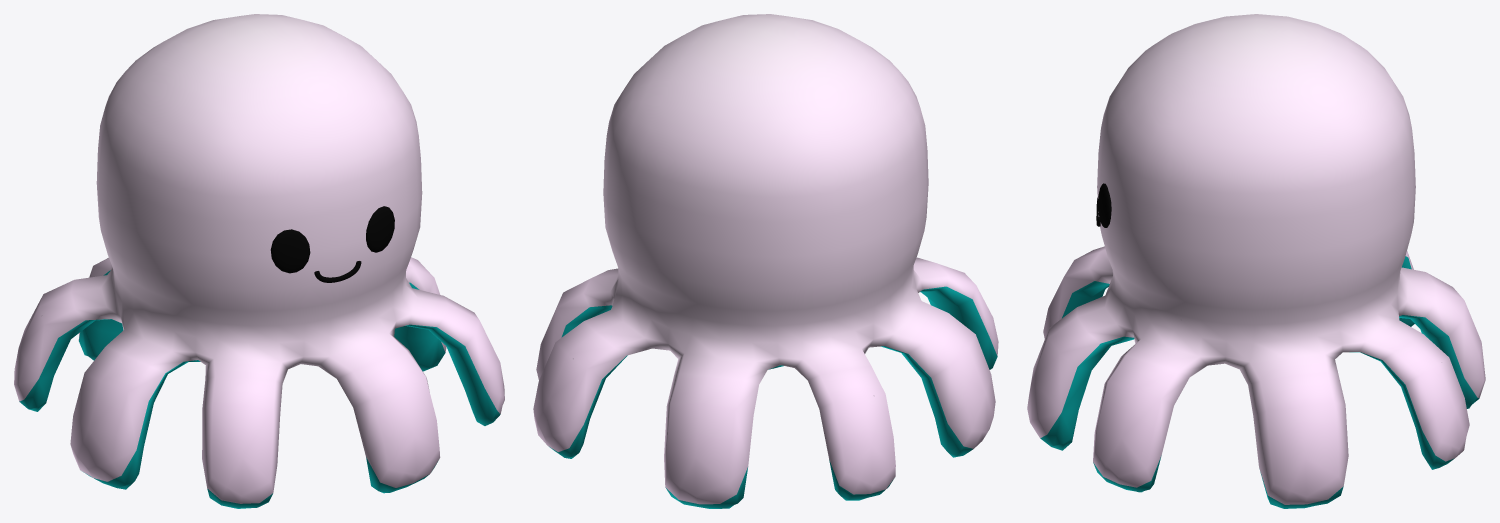
File: octopus.fbx
3 renders of one model, left to right at view 1: azimuth 30°, elevation 25°; view 2: azimuth 150°, elevation 25°; view 3: azimuth 270°, elevation 25°, orthographic.
Visible parts, largest first — view 1: octopus, eye; view 2: octopus; view 3: octopus.
Part boxes in pixels (box(x1,y1,x2,y2)): octopus: box(14, 14, 504, 508); eye: box(270, 206, 394, 273); octopus: box(533, 14, 998, 508); octopus: box(1027, 14, 1485, 508).
Bounding box in the file's own units: 0.2272 × 0.2272 × 0.2154.
